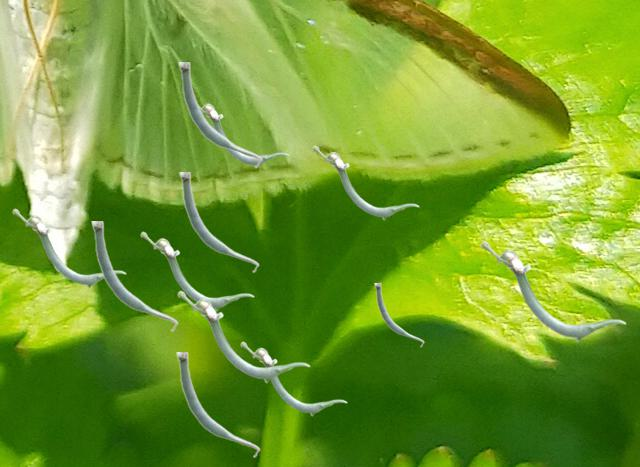french_bean: (480, 240, 625, 341), (177, 290, 309, 382), (91, 221, 177, 331), (140, 231, 253, 310), (12, 208, 125, 287), (176, 352, 259, 457), (178, 62, 261, 167), (179, 172, 258, 272), (240, 341, 346, 415), (312, 145, 418, 219), (200, 103, 288, 165), (374, 283, 423, 346)
